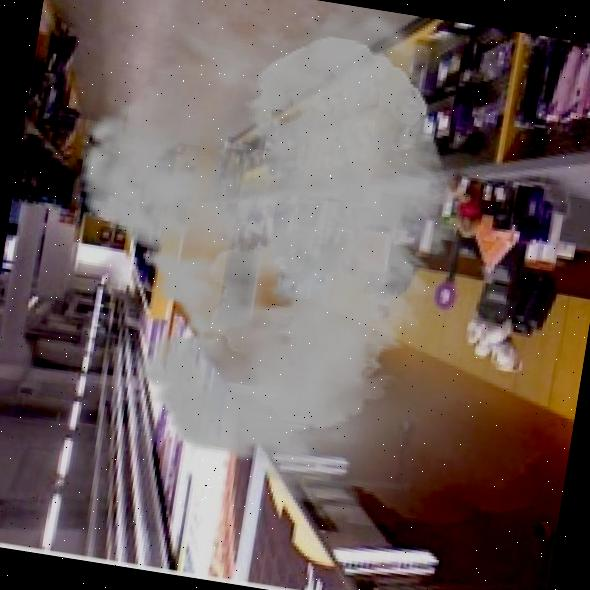smoke: (10, 0, 590, 554)
